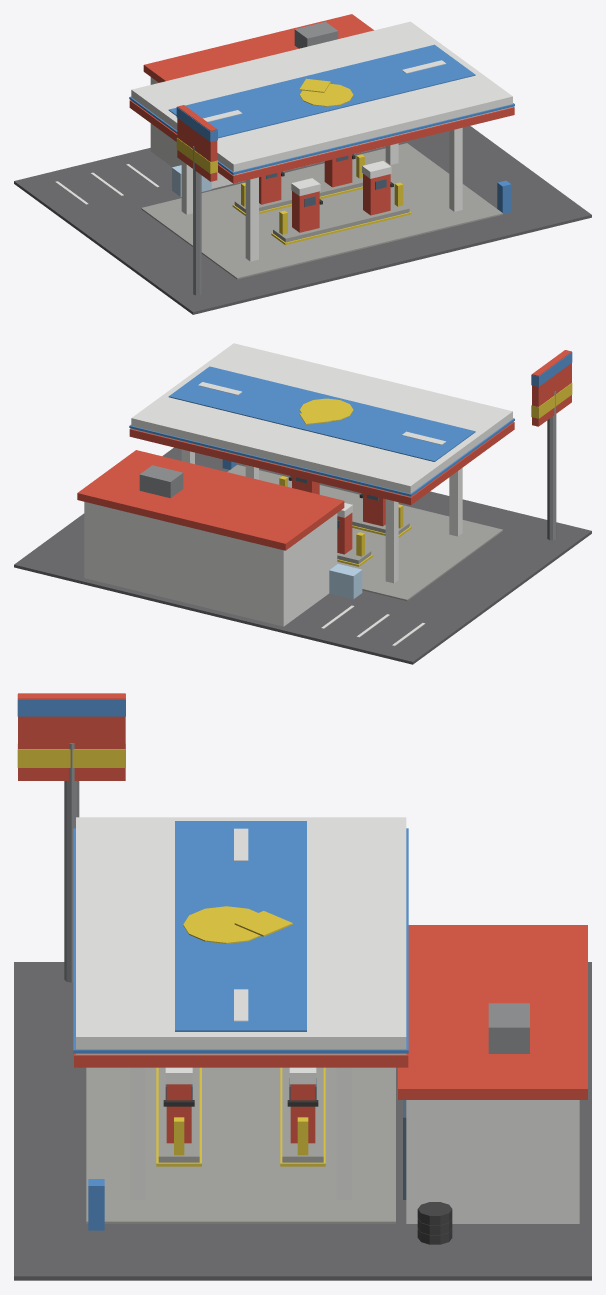
File: gasstation.glb
3 renders of one model, top to bottom at view 1: azimuth 30°, elevation 25°; view 2: azimuth 150°, elevation 25°; view 3: azimuth 270°, elevation 25°, orthographic. The views are drawn at different scales.
Visible parts, largest first — view 1: SP_GasStation; view 2: SP_GasStation; view 3: SP_GasStation.
Part boxes in pixels (x1,y1,x2,y2): SP_GasStation: (14,14,591,314); SP_GasStation: (14,343,591,664); SP_GasStation: (14,693,591,1280).
Bounding box in the file's own units: 18 × 7.7 × 14.
